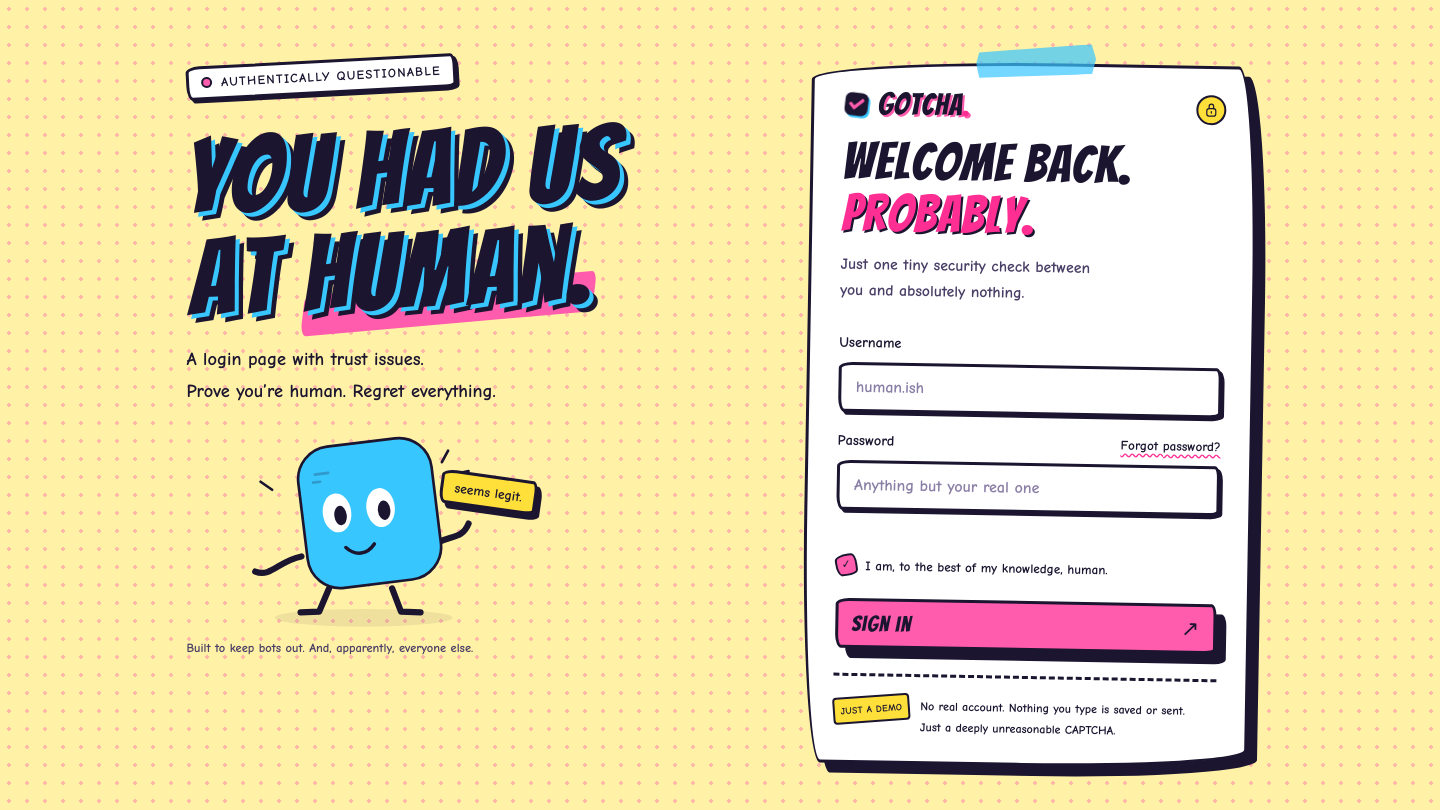
Scenario: LoginPage › cycles through unhelpful password advice
Click the button "Forgot password?" at (1170, 445), box [1120,433,1220,458]
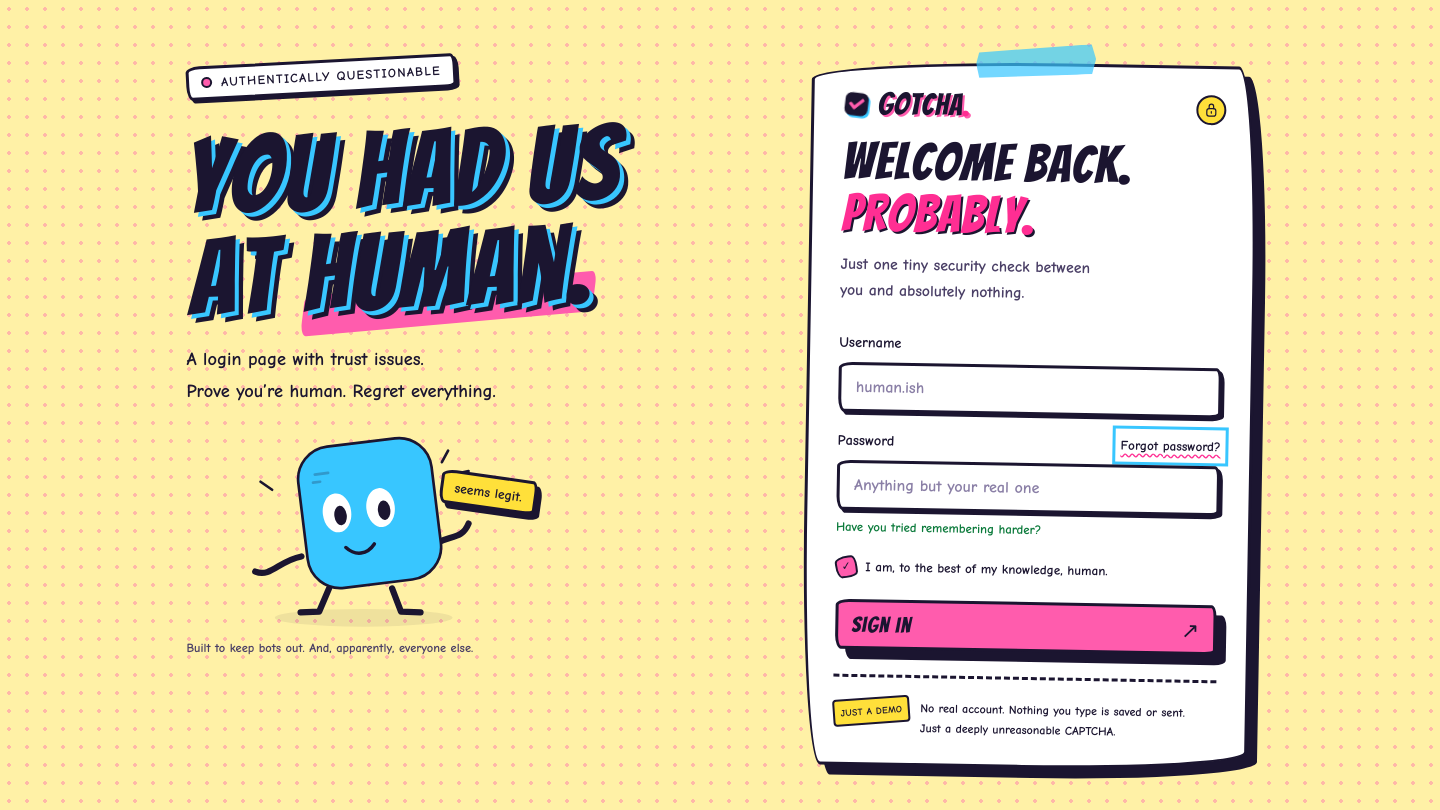
Now the text "Have you tried remembering harder?" is shown, box [835,516,1041,540]
Click the button "Forgot password?" at (1170, 445), box [1120,433,1220,458]
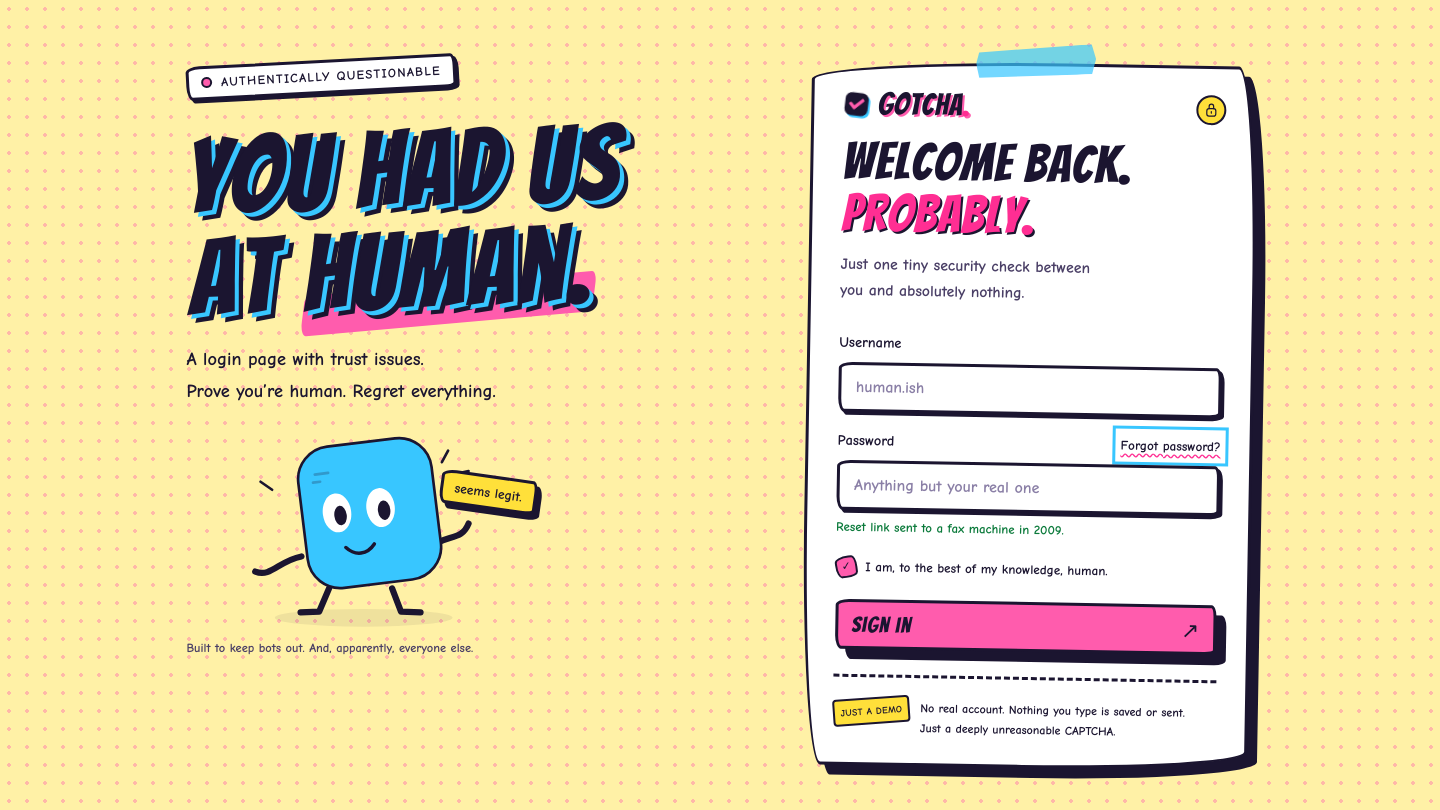
Now the text "Reset link sent to a fax machine in 2009." is shown, box [835,516,1064,540]
Now the text "Have you tried remembering harder?" is gone
